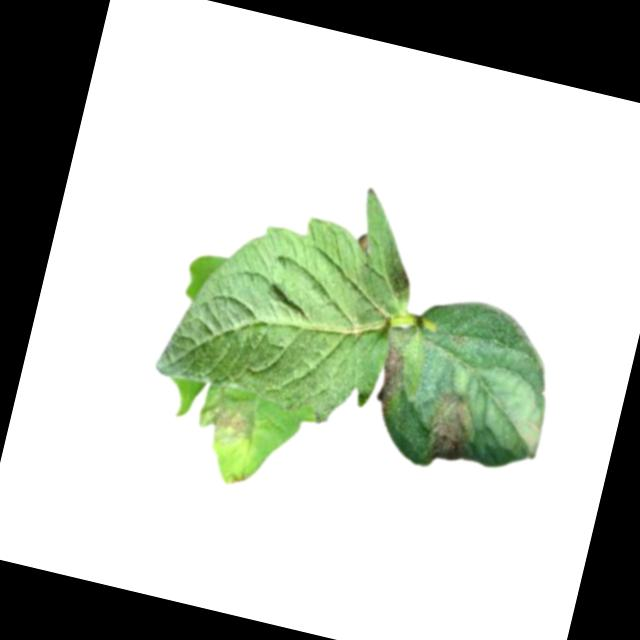Late_blight: (417, 386, 485, 474), (192, 385, 263, 454), (372, 338, 413, 418), (379, 256, 418, 304), (355, 229, 372, 253)
